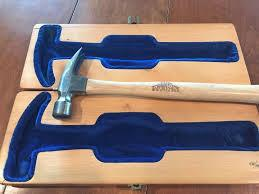hammer: (50, 45, 258, 120)
